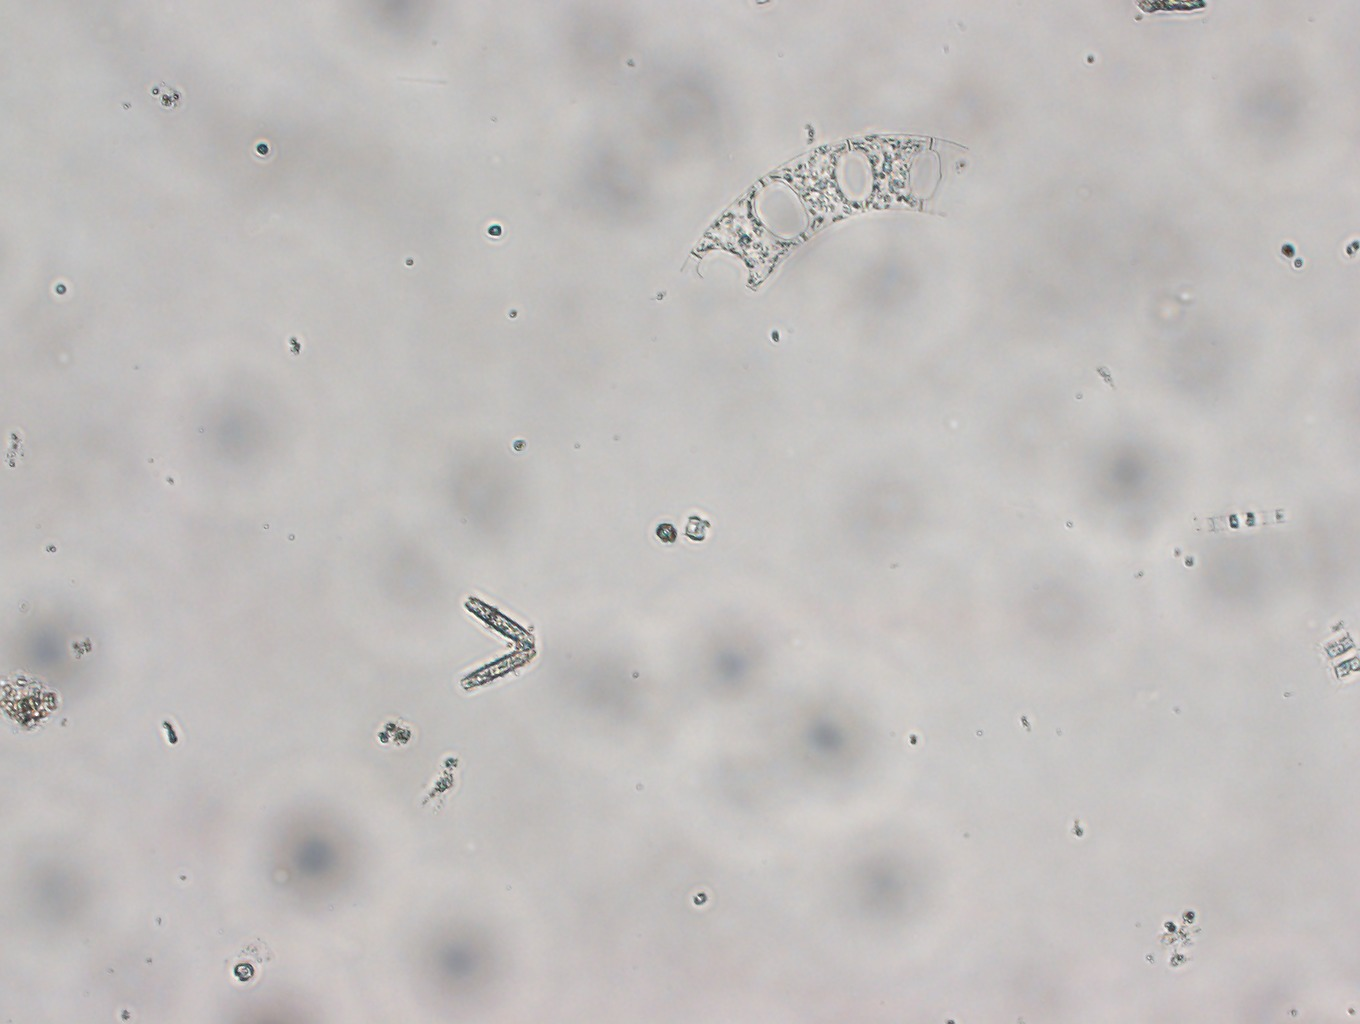eucampia: (675, 115, 976, 307)
skeletonema: (1184, 499, 1303, 543)
thalassionema nitzschioides: (453, 587, 539, 692)
